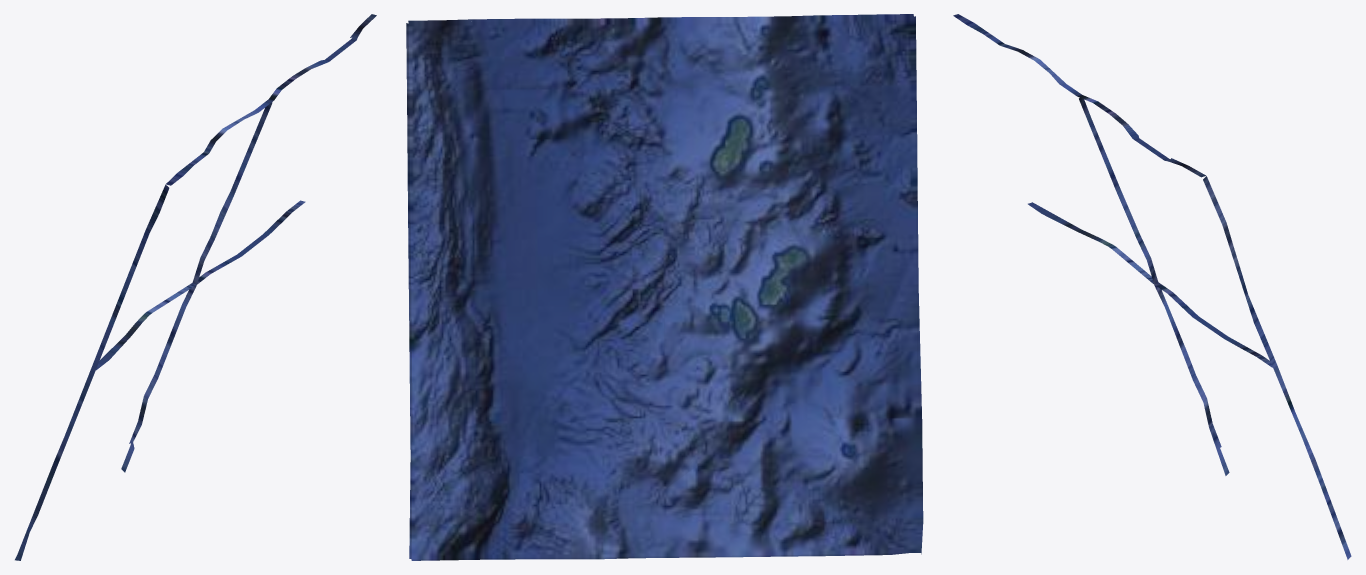
3 renders of one model, left to right at view 1: azimuth 30°, elevation 25°; view 2: azimuth 150°, elevation 25°; view 3: azimuth 270°, elevation 25°, orthographic. The views are drawn at different scales.
Bounding box in the file's own units: 155818 × 149362 × 127296.
1 material, 1 textured.
